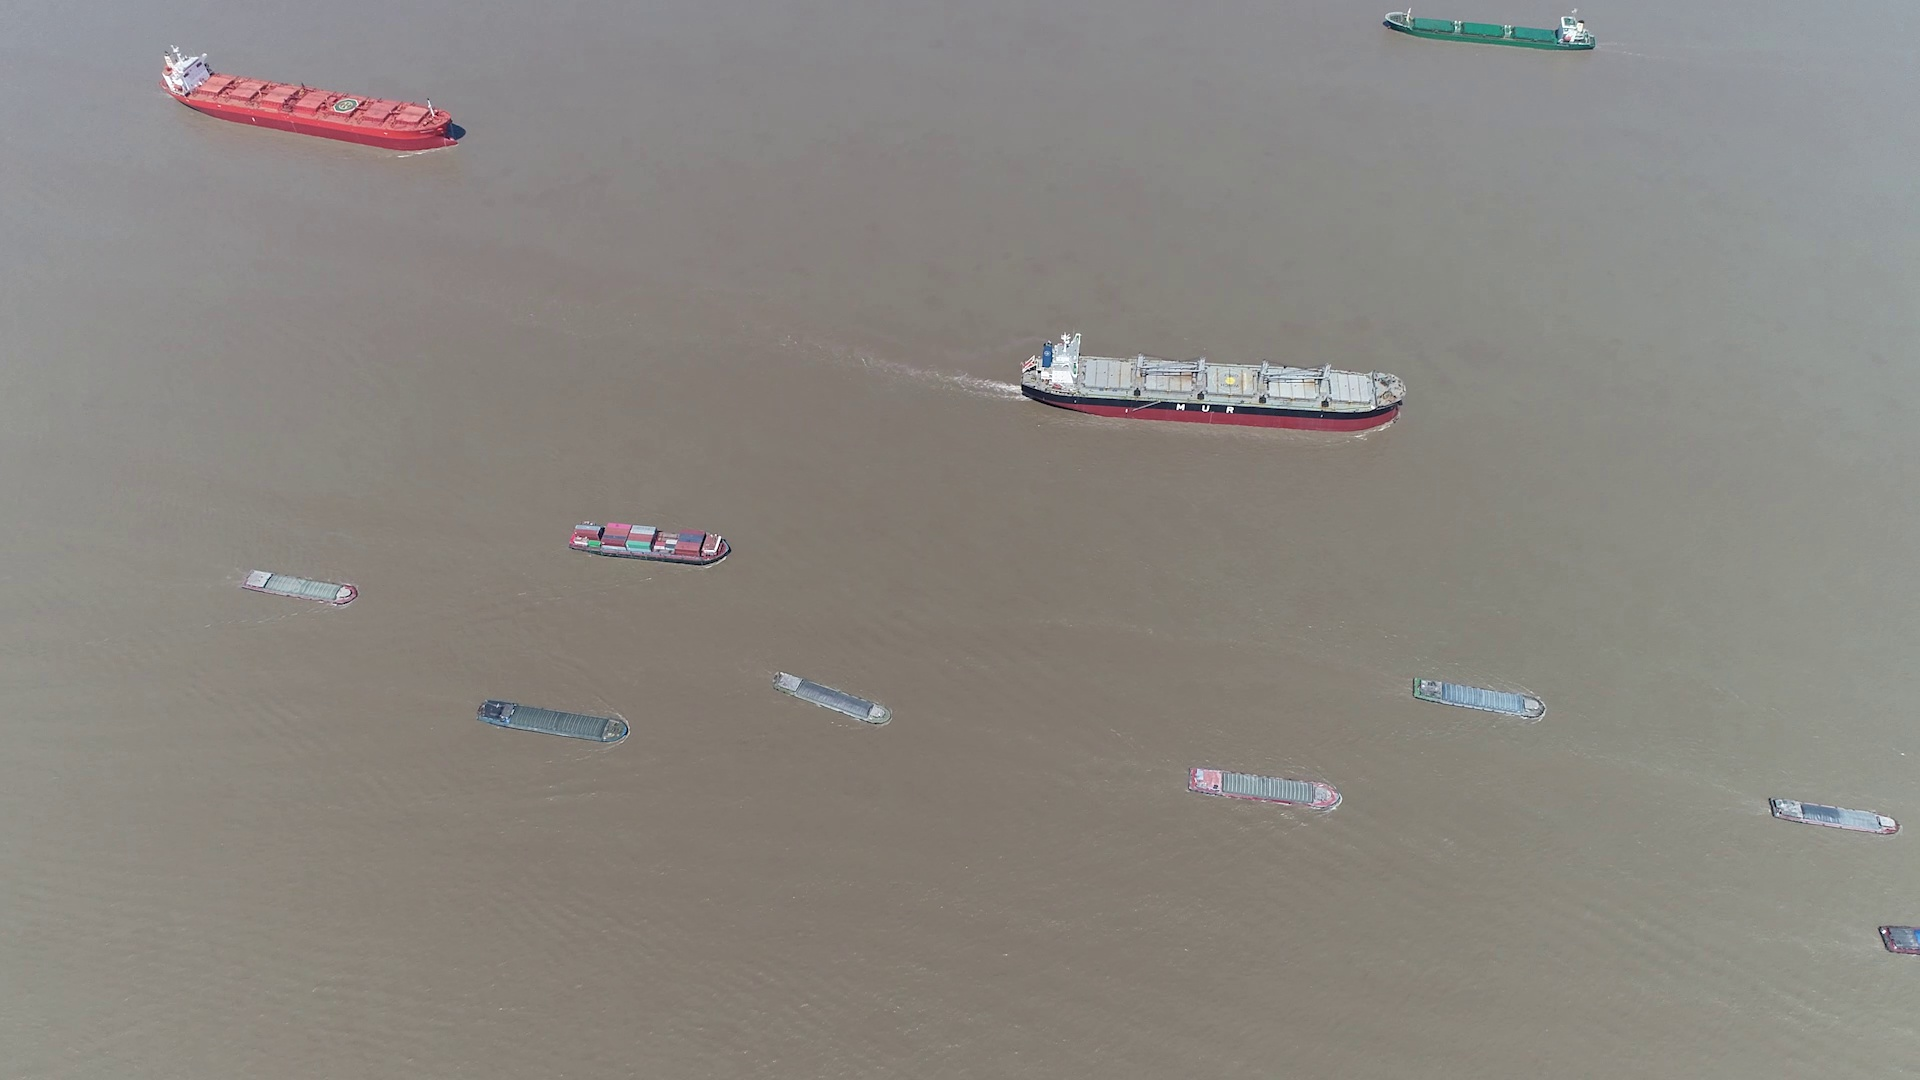ship: (1021, 332, 1407, 434), (158, 46, 460, 150), (1383, 11, 1596, 51), (571, 520, 735, 564), (1185, 767, 1341, 811), (479, 700, 634, 744), (774, 671, 890, 725), (1412, 676, 1549, 720), (1768, 796, 1899, 835), (241, 568, 357, 605), (1879, 924, 1919, 955)
